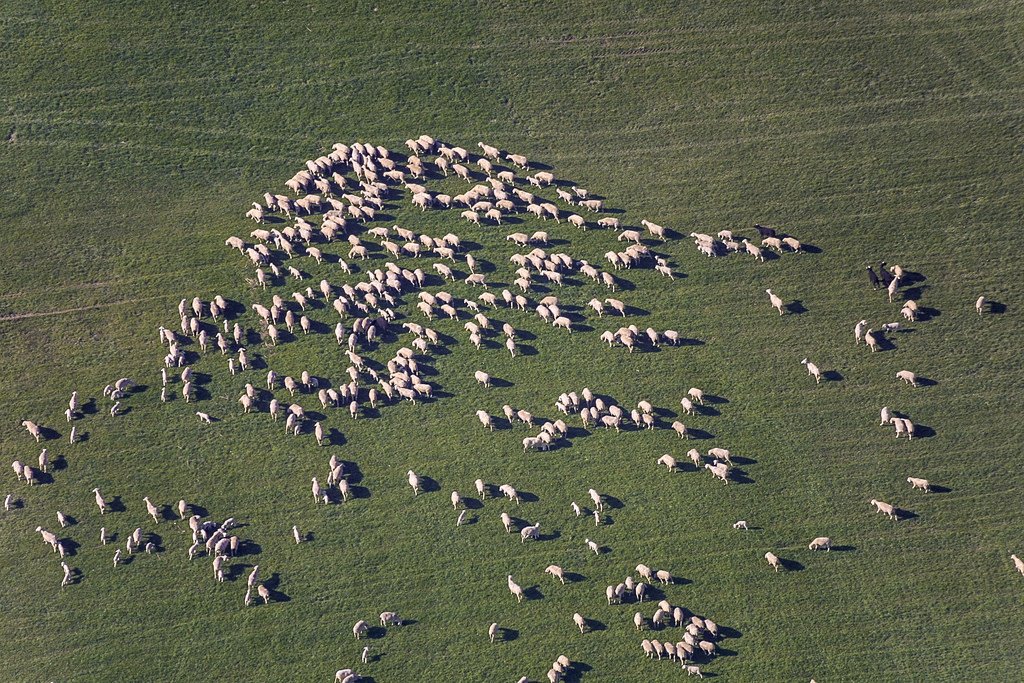sheep: (34, 524, 58, 553), (870, 496, 897, 521), (640, 218, 667, 243), (801, 356, 822, 384), (506, 574, 525, 604), (741, 238, 764, 262), (704, 462, 729, 484), (142, 495, 161, 523), (765, 287, 784, 315), (477, 141, 500, 163), (505, 152, 529, 172), (906, 475, 931, 494), (656, 453, 677, 475), (604, 297, 626, 318), (392, 223, 415, 243), (379, 611, 403, 630), (432, 263, 454, 283), (344, 349, 364, 371), (92, 487, 108, 514), (464, 272, 488, 290), (807, 536, 832, 553), (407, 468, 421, 498), (896, 368, 918, 387), (505, 231, 529, 248), (23, 418, 40, 442), (224, 235, 245, 253), (477, 291, 498, 309), (577, 199, 602, 214), (368, 225, 390, 242), (347, 245, 370, 261), (552, 316, 573, 333), (653, 264, 674, 281), (433, 247, 456, 262), (215, 331, 229, 355), (342, 192, 364, 207), (416, 301, 433, 320), (245, 208, 265, 224)
